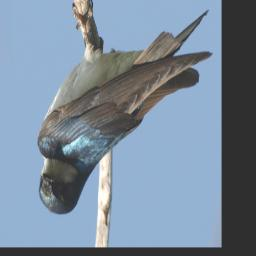Swallow: (37, 0, 214, 215)
